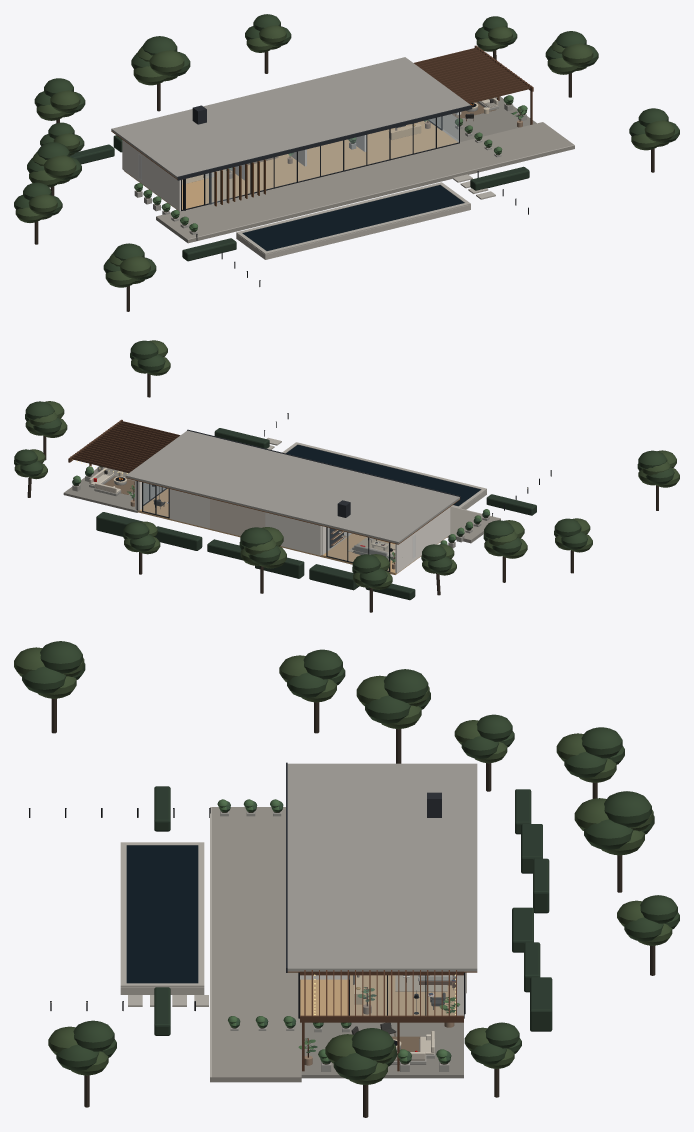
The model's file is house.glb.
3 views of the same model, one above another, from view 1: azimuth 30°, elevation 25°; view 2: azimuth 150°, elevation 25°; view 3: azimuth 270°, elevation 25° (orthographic). The views are drawn at different scales.
Visible parts, largest first — view 1: Shell__Concrete, terrace, Site__Canopy_Warm, Shell__Glass, Site__Canopy, floor_house, site_pool, Patio__Walnut, Site__Coping, Site__Hedge, Shell__Plaster, floor_patio (+5 smaller); view 2: Shell__Concrete, Site__Canopy, Site__Canopy_Warm, Site__Hedge, Shell__Plaster, Patio__Walnut, site_pool, Shell__Glass, floor_house, Shell__Plaster_Warm, floor_patio, Site__Coping (+5 smaller); view 3: Shell__Concrete, terrace, Site__Canopy, site_pool, Site__Canopy_Warm, Site__Hedge, Site__Coping, floor_patio, floor_house, Patio__Walnut, Shell__Glass, Site__Bark (+1 smaller).
Boxes of the visible parts, x1=… form: Shell__Concrete: x1=111, y1=57, x2=470, y2=178; terrace: x1=156, y1=122, x2=574, y2=243; Site__Canopy_Warm: x1=15, y1=25, x2=674, y2=287; Shell__Glass: x1=139, y1=112, x2=458, y2=204; Site__Canopy: x1=14, y1=14, x2=679, y2=279; floor_house: x1=124, y1=120, x2=458, y2=209; site_pool: x1=242, y1=185, x2=464, y2=250; Patio__Walnut: x1=414, y1=45, x2=533, y2=124; Site__Coping: x1=187, y1=145, x2=574, y2=259; Site__Hedge: x1=69, y1=135, x2=529, y2=261; Shell__Plaster: x1=122, y1=112, x2=461, y2=210; floor_patio: x1=430, y1=96, x2=536, y2=141; Shell__Concrete: x1=125, y1=430, x2=459, y2=543; Site__Canopy: x1=14, y1=340, x2=674, y2=586; Site__Canopy_Warm: x1=14, y1=340, x2=679, y2=589; Site__Hedge: x1=96, y1=428, x2=536, y2=600; Shell__Plaster: x1=135, y1=480, x2=450, y2=573; Patio__Walnut: x1=68, y1=419, x2=180, y2=501; site_pool: x1=286, y1=445, x2=480, y2=506; Shell__Glass: x1=143, y1=482, x2=415, y2=570; floor_house: x1=137, y1=488, x2=447, y2=574; Shell__Plaster_Warm: x1=210, y1=499, x2=265, y2=535; floor_patio: x1=63, y1=468, x2=164, y2=512; Site__Coping: x1=267, y1=437, x2=500, y2=518; Shell__Concrete: x1=287, y1=763, x2=477, y2=971; terrace: x1=210, y1=807, x2=301, y2=1082; Site__Canopy: x1=22, y1=641, x2=679, y2=1080; site_pool: x1=126, y1=845, x2=198, y2=983; Site__Canopy_Warm: x1=14, y1=647, x2=672, y2=1084; Site__Hedge: x1=154, y1=786, x2=552, y2=1035; Site__Coping: x1=120, y1=807, x2=211, y2=1077; floor_patio: x1=301, y1=1022, x2=463, y2=1078; floor_house: x1=300, y1=975, x2=455, y2=1015; Patio__Walnut: x1=300, y1=970, x2=463, y2=1071; Shell__Glass: x1=350, y1=975, x2=455, y2=1015; Site__Bark: x1=51, y1=698, x2=655, y2=1117.
Size of what is drawn, in the model's own units: 59.93 by 7.2 by 40.63.
